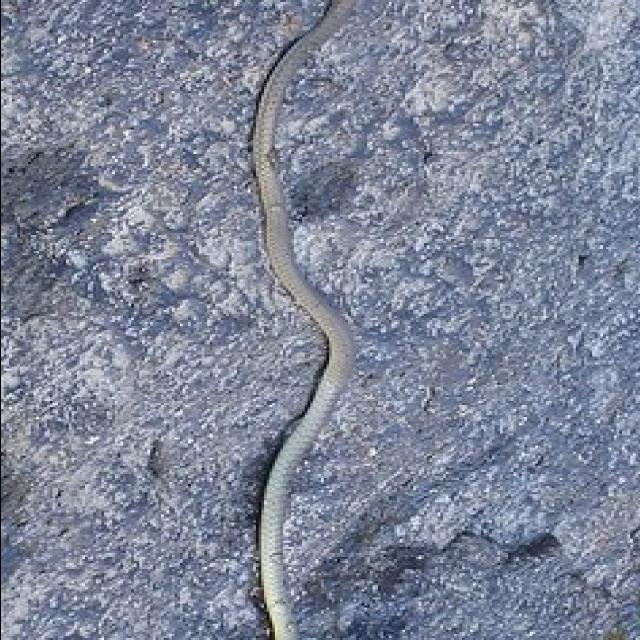Snake: (238, 0, 496, 640)
